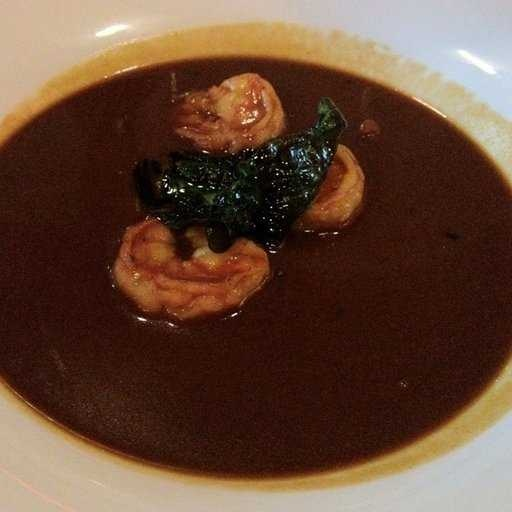soup: (1, 26, 482, 476)
